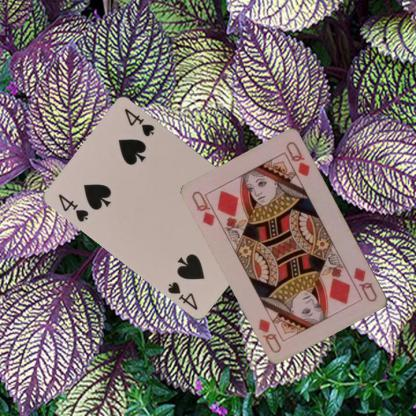4s: (56, 191, 91, 224)
Qd: (189, 188, 223, 228), (351, 265, 379, 303)
